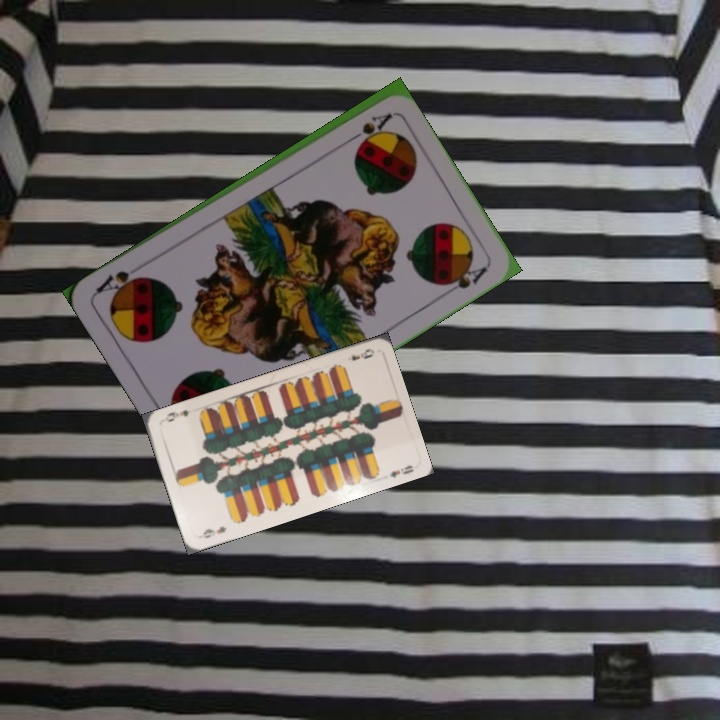E9: (199, 522, 229, 541), (347, 344, 377, 363)
SA: (340, 109, 394, 147)
